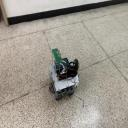cart: (50, 60, 80, 101)
